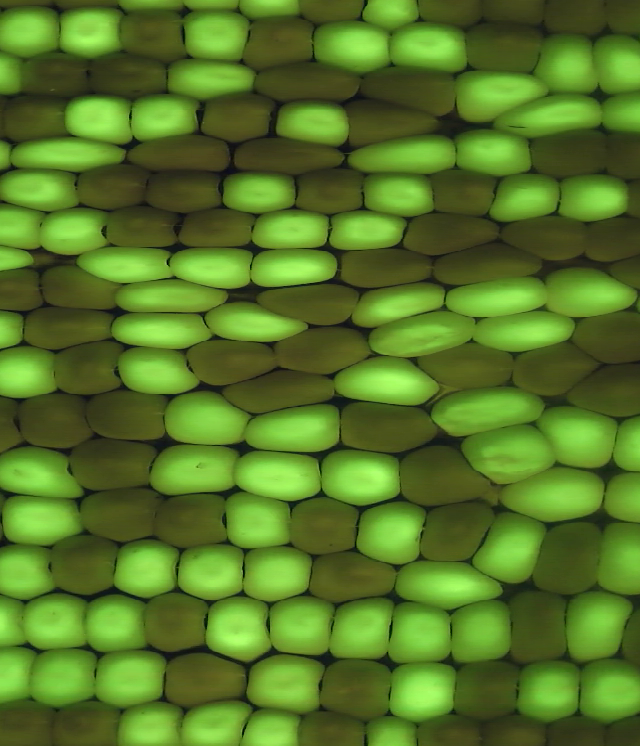fluorescent: (495, 461, 612, 526), (466, 505, 552, 586), (455, 420, 565, 483), (427, 385, 548, 441), (392, 557, 515, 612), (452, 65, 555, 129), (364, 309, 489, 361), (488, 88, 609, 141), (534, 401, 624, 472), (239, 398, 345, 458), (348, 496, 431, 571), (333, 351, 444, 407), (229, 445, 332, 505), (0, 438, 87, 509), (148, 436, 245, 499), (344, 128, 465, 178), (565, 585, 636, 669), (241, 651, 330, 718), (6, 129, 132, 176), (162, 386, 256, 449), (265, 588, 342, 664), (541, 262, 640, 321), (306, 15, 400, 77), (265, 94, 361, 154), (448, 121, 544, 181), (91, 641, 172, 712), (72, 238, 178, 292), (318, 445, 406, 510), (349, 277, 449, 334), (201, 296, 317, 345), (0, 488, 91, 550), (23, 645, 105, 713), (114, 340, 208, 399), (323, 594, 398, 667), (112, 275, 239, 318), (243, 242, 348, 294), (15, 586, 95, 654), (445, 591, 518, 665), (528, 26, 603, 98), (445, 271, 555, 319), (384, 16, 472, 76), (385, 661, 470, 723), (202, 594, 275, 666), (513, 656, 588, 725), (170, 537, 247, 604), (103, 308, 222, 351), (110, 535, 185, 603), (79, 590, 157, 655), (356, 165, 446, 221), (385, 598, 458, 667), (0, 161, 88, 218), (470, 308, 584, 352), (238, 543, 320, 604), (160, 55, 264, 103), (60, 88, 140, 150), (165, 242, 258, 295), (35, 202, 118, 261), (219, 164, 307, 219), (223, 488, 298, 552), (553, 168, 638, 224), (52, 5, 133, 63), (125, 89, 203, 148), (175, 8, 255, 65), (248, 204, 336, 254), (322, 205, 415, 252), (486, 168, 564, 224), (573, 656, 640, 721), (0, 539, 65, 605), (586, 518, 640, 595), (175, 695, 256, 746), (0, 3, 66, 63), (112, 696, 189, 746), (584, 30, 640, 98), (0, 342, 65, 400), (239, 701, 308, 746), (0, 198, 52, 255), (596, 465, 640, 529), (0, 643, 42, 708), (594, 87, 640, 141), (0, 586, 35, 653), (605, 411, 640, 477), (361, 712, 427, 746), (356, 1, 425, 33), (0, 238, 47, 281), (0, 45, 34, 101), (0, 305, 32, 355)
nonfluorescent: (397, 440, 494, 513), (335, 396, 448, 457), (528, 515, 608, 601), (156, 644, 258, 711), (219, 362, 344, 415), (509, 339, 610, 400), (355, 62, 465, 118), (414, 340, 526, 395), (502, 582, 574, 667), (340, 95, 444, 153), (273, 321, 376, 379), (75, 486, 174, 546), (431, 239, 554, 287), (414, 499, 498, 569), (147, 488, 239, 551), (303, 548, 402, 606), (46, 530, 129, 599), (66, 436, 163, 494), (229, 131, 351, 177), (282, 494, 368, 559), (316, 654, 399, 721), (257, 277, 367, 327), (82, 387, 175, 446), (250, 59, 369, 105), (121, 131, 241, 176), (36, 259, 129, 317), (459, 16, 552, 74), (15, 389, 99, 452), (401, 209, 505, 259), (499, 211, 595, 265), (185, 338, 284, 389), (450, 656, 524, 724), (139, 590, 215, 655), (526, 124, 614, 180), (240, 11, 320, 72), (339, 241, 436, 291), (116, 6, 196, 64), (565, 361, 640, 422), (76, 158, 156, 214), (24, 304, 119, 351), (422, 166, 506, 219), (142, 166, 229, 217), (198, 89, 279, 143), (86, 50, 175, 99), (291, 165, 371, 217), (569, 308, 640, 366), (1, 90, 73, 146), (178, 205, 261, 253), (20, 49, 96, 100), (102, 204, 182, 251), (44, 699, 123, 746), (578, 211, 640, 265), (291, 706, 372, 746), (0, 695, 59, 746), (538, 1, 617, 39), (538, 709, 619, 746), (410, 710, 487, 746), (479, 712, 557, 746), (601, 124, 640, 184), (411, 1, 491, 29), (0, 266, 46, 314), (476, 1, 557, 28), (0, 390, 31, 459), (293, 1, 376, 26), (604, 242, 640, 294), (599, 1, 640, 42), (600, 711, 640, 746)
